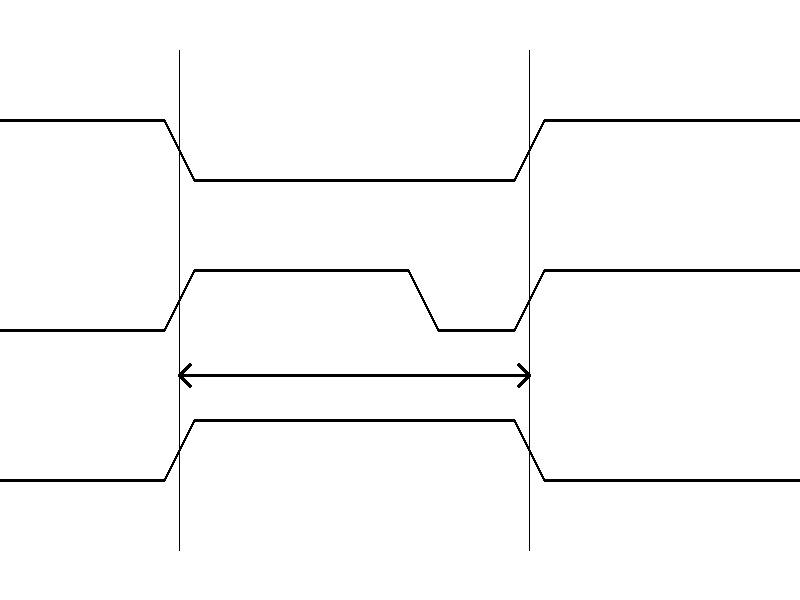double_arrow: (179, 360, 529, 390)
